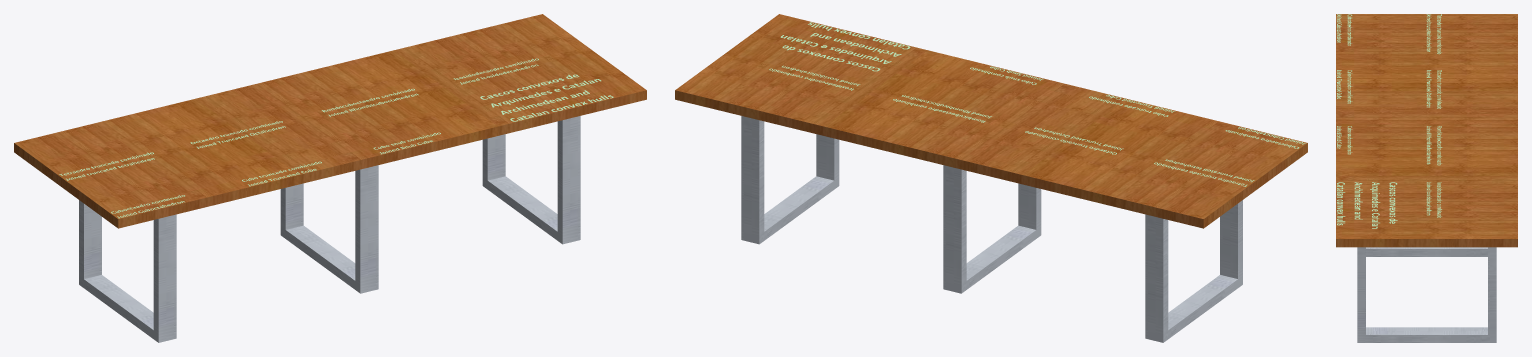
Rendered from ArquimedesConvexHullsa.glb.
3 views of the same model, side by side, from view 1: azimuth 30°, elevation 25°; view 2: azimuth 150°, elevation 25°; view 3: azimuth 270°, elevation 25° (orthographic). The views are drawn at different scales.
Parts seen in each view (by area): view 1: object 1, Composant#1 (×3), Cascos convexos #1; view 2: object 1, Composant#1 (×3), Cascos convexos #1; view 3: object 1, Composant#1 (×2), Cascos convexos #1, Rombicuboctaedro, Tetraedro trunca, Octaedro truncad#1, Icosidodecaedro #2, Cuboctaedro comb, Cubo truncado co, Cubo snub combin.
Boxes of the visible parts, bbox=[...] form: object 1: bbox=[14, 14, 646, 228]; Composant#1 (×3): bbox=[79, 116, 580, 342]; Cascos convexos #1: bbox=[480, 74, 613, 121]; object 1: bbox=[675, 14, 1307, 228]; Composant#1 (×3): bbox=[741, 116, 1242, 342]; Cascos convexos #1: bbox=[780, 22, 910, 71]; object 1: bbox=[1336, 14, 1517, 247]; Composant#1 (×2): bbox=[1357, 247, 1496, 342]; Cascos convexos #1: bbox=[1337, 182, 1397, 228]; Rombicuboctaedro: bbox=[1426, 126, 1442, 165]; Tetraedro trunca: bbox=[1426, 14, 1441, 54]; Octaedro truncad#1: bbox=[1426, 70, 1441, 108]; Icosidodecaedro #2: bbox=[1426, 182, 1441, 217]; Cuboctaedro comb: bbox=[1337, 14, 1352, 45]; Cubo truncado co: bbox=[1337, 70, 1352, 103]; Cubo snub combin: bbox=[1337, 126, 1352, 154].
Bounding box in the file's own units: 2.93 × 0.7711 × 1.
Materials: 3 (2 with a texture image).
